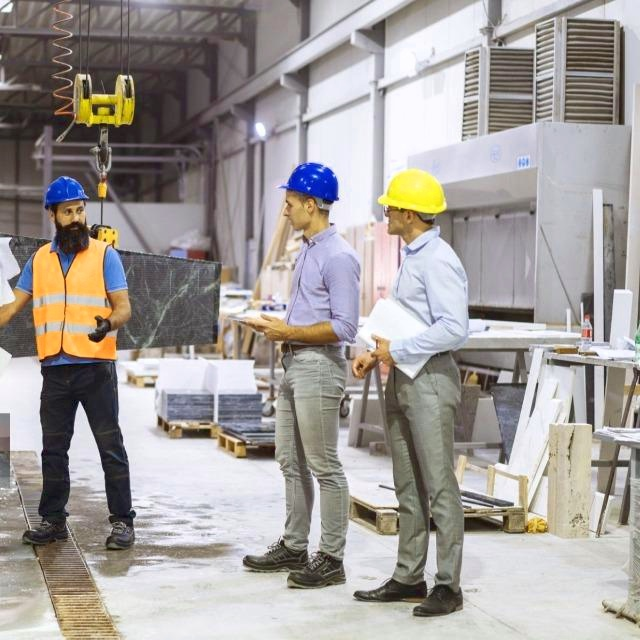Con_Casco: (375, 169, 445, 238), (276, 163, 342, 233), (42, 176, 87, 249)
Con_Chaleco: (31, 236, 115, 367)
Sin_Chaleco: (385, 241, 468, 360), (278, 237, 361, 350)
